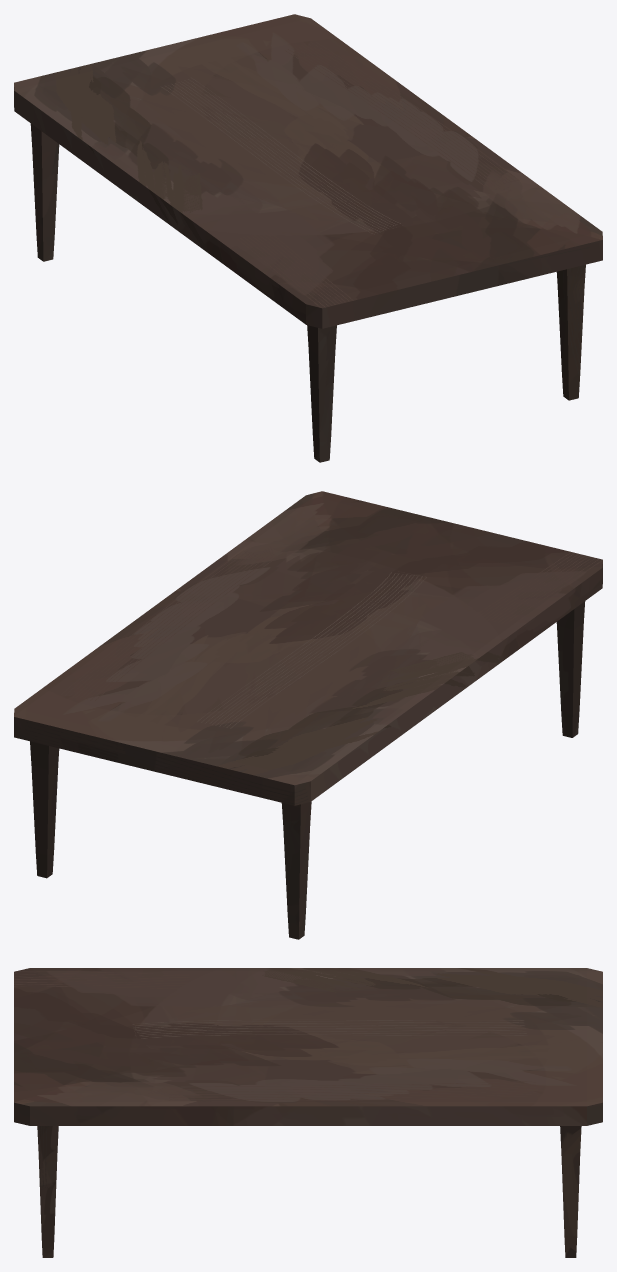
File: M-TableFIN.fbx
The picture shows the model from 3 angles, top to bottom: view 1: azimuth 30°, elevation 25°; view 2: azimuth 150°, elevation 25°; view 3: azimuth 270°, elevation 25°; orthographic projection. The views are drawn at different scales.
Visible parts, largest first — view 1: Cube.004; view 2: Cube.004; view 3: Cube.004.
Part boxes in pixels (<box>): Cube.004: <box>14,14,602,462</box>; Cube.004: <box>14,491,602,939</box>; Cube.004: <box>14,968,602,1257</box>.
Size of the model in its own units: 100 by 54.02 by 180.
